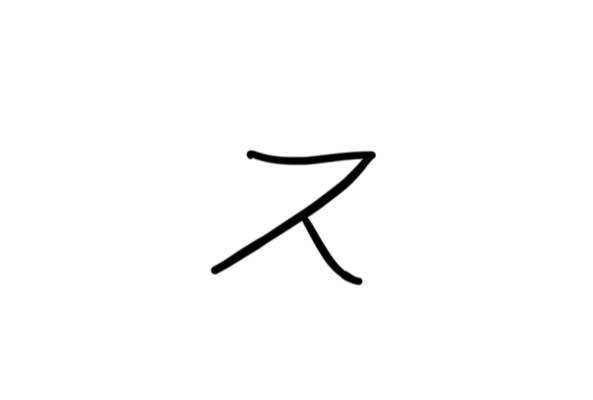su: (185, 139, 386, 291)
